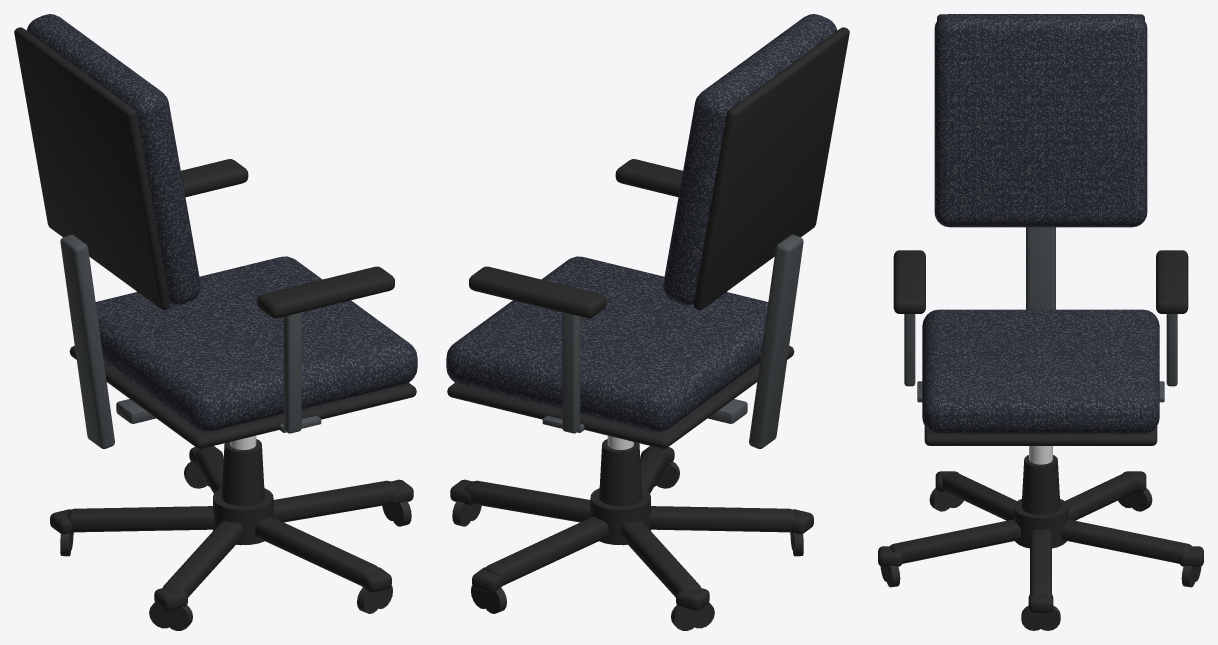
The model's file is outpost_chair.glb.
3 renders of one model, left to right at view 1: azimuth 30°, elevation 25°; view 2: azimuth 150°, elevation 25°; view 3: azimuth 270°, elevation 25°, orthographic. The views are drawn at different scales.
Parts seen in each view (by area): view 1: seat, backshell, back, spine, seatshell, armpad, leg.002, leg.004, leg, shroud, leg.003, armpost (+5 smaller); view 2: seat, backshell, back, spine, seatshell, armpad.001, leg.003, leg.001, leg, shroud, leg.002, armpost.001 (+5 smaller); view 3: back, seat, seatshell, leg.001, leg.004, spine, armpad, armpad.001, shroud, leg.002, leg.003, hub (+4 smaller).
Boxes of the visible parts, box(x1,y1,x2,y2) form: seat: box(95, 256, 417, 432); backshell: box(14, 27, 170, 310); back: box(26, 14, 200, 305); spine: box(60, 234, 114, 448); seatshell: box(69, 346, 416, 448); armpad: box(257, 266, 394, 318); leg.002: box(67, 506, 214, 532); leg.004: box(255, 516, 379, 585); leg: box(273, 480, 399, 522); shroud: box(221, 439, 264, 506); leg.003: box(163, 520, 243, 597); armpost: box(283, 312, 301, 433); seat: box(446, 256, 768, 432); backshell: box(693, 27, 849, 310); back: box(663, 14, 837, 305); spine: box(749, 234, 803, 448); seatshell: box(447, 346, 794, 448); armpad.001: box(469, 266, 606, 318); leg.003: box(649, 506, 796, 532); leg.001: box(484, 516, 608, 585); leg: box(464, 480, 590, 522); shroud: box(599, 439, 642, 506); leg.002: box(620, 520, 700, 597); armpost.001: box(562, 312, 580, 433); back: box(934, 14, 1147, 227); seat: box(922, 309, 1159, 434); seatshell: box(924, 426, 1157, 445); leg.001: box(1061, 519, 1192, 563); leg.004: box(889, 519, 1020, 563); spine: box(1026, 227, 1055, 309); armpad: box(893, 250, 925, 313); armpad.001: box(1156, 250, 1188, 313); shroud: box(1021, 455, 1060, 514); leg.002: box(1064, 473, 1139, 520); leg.003: box(942, 473, 1017, 520); hub: box(1013, 499, 1068, 548).
Bounding box in the file's own units: 0.7121 × 1.08 × 0.6587.
Materials: 5 (1 with a texture image).
